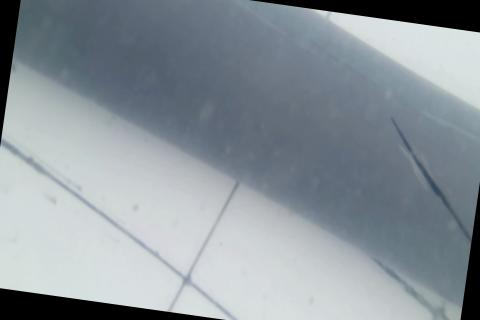keretakan: (371, 115, 480, 254)
